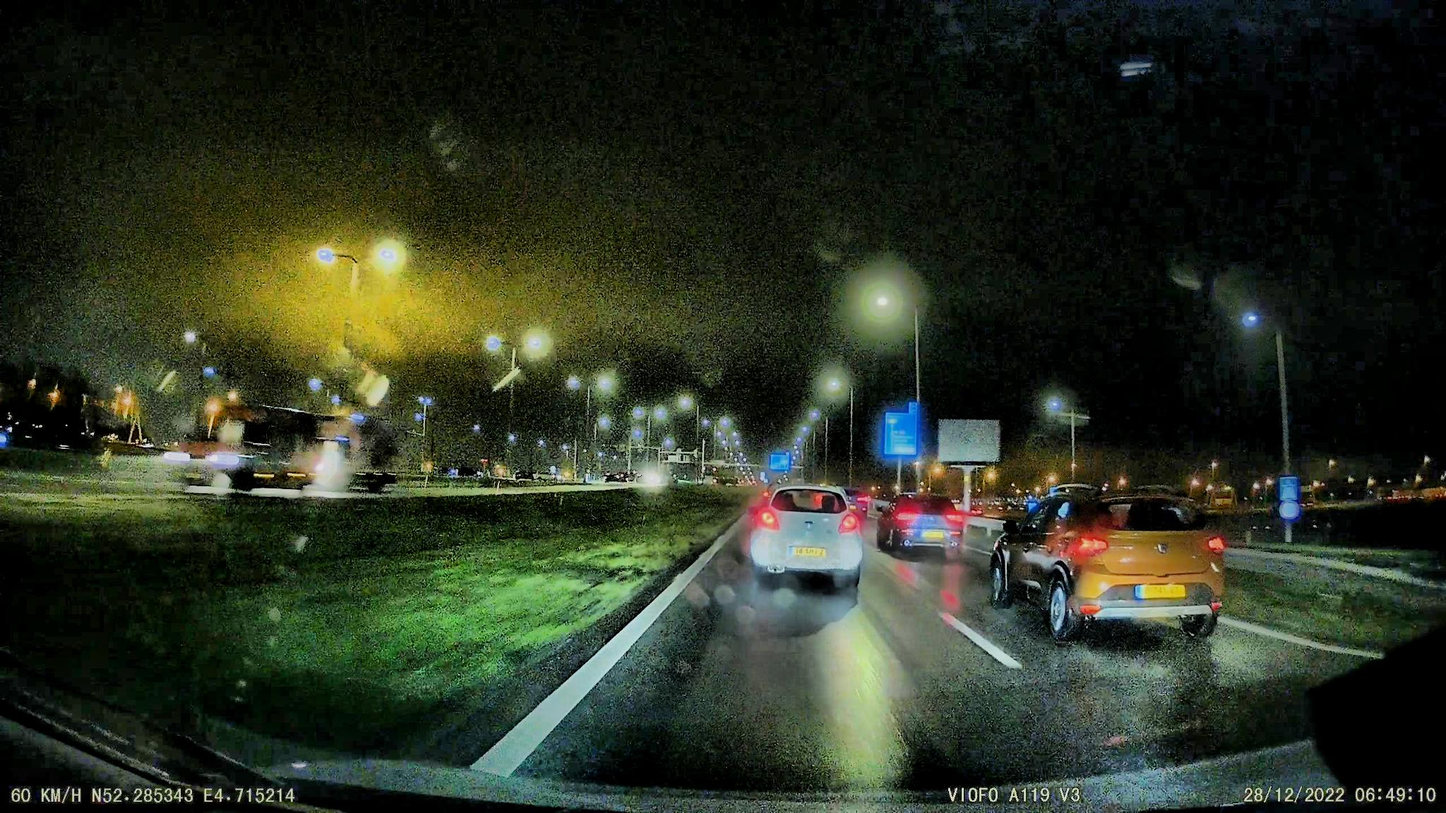Roads: (474, 530, 1446, 802)
